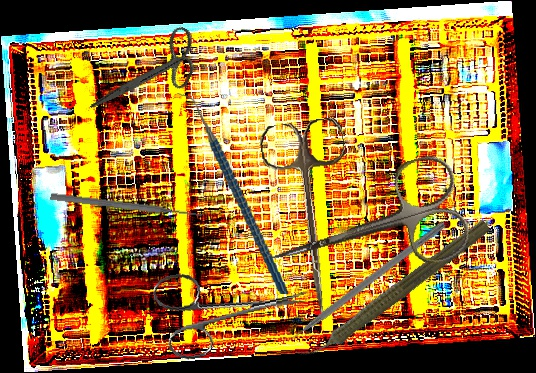Chopper: (175, 83, 288, 304), (271, 211, 447, 352)
Handpiece: (293, 211, 494, 372)
Iris Scissors: (252, 150, 476, 308), (258, 116, 367, 317), (150, 252, 317, 364), (89, 6, 210, 142)
Pusher: (49, 191, 204, 221)
